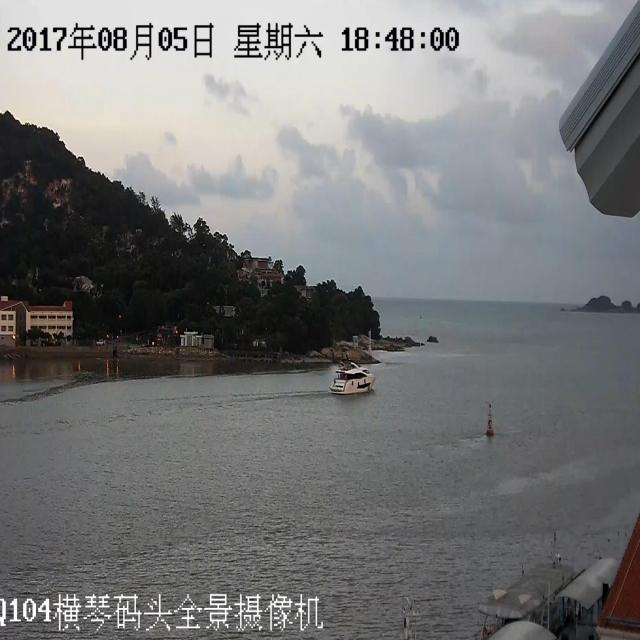buoy: (481, 396, 501, 442)
passenger ship: (324, 350, 374, 399)
